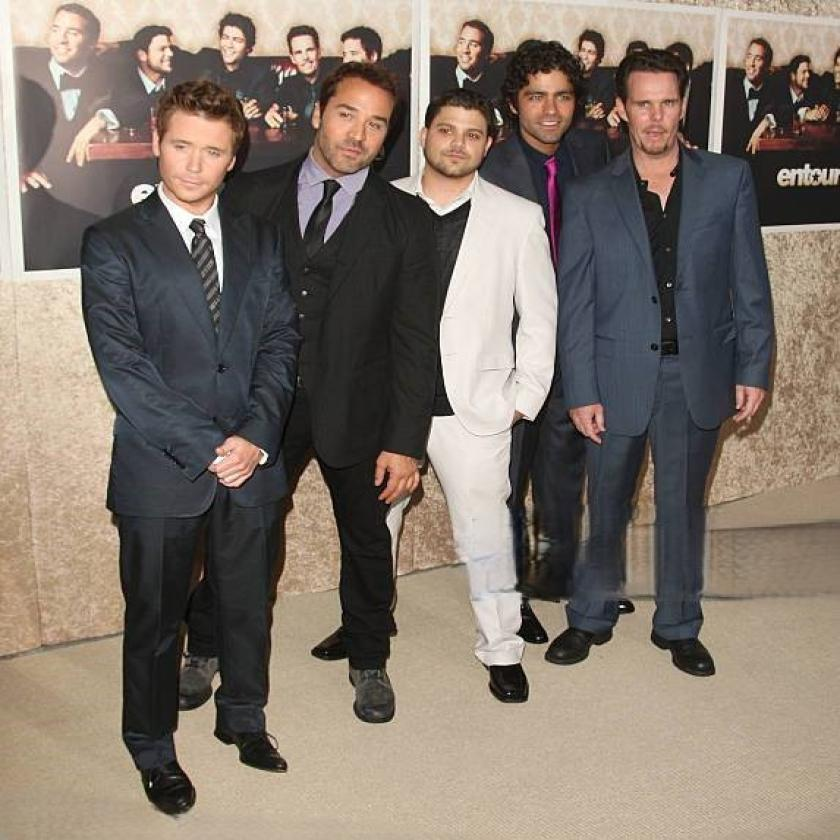Sin_casco: (156, 76, 254, 212), (314, 66, 398, 186), (619, 54, 695, 179), (419, 90, 502, 200), (513, 40, 586, 162)
